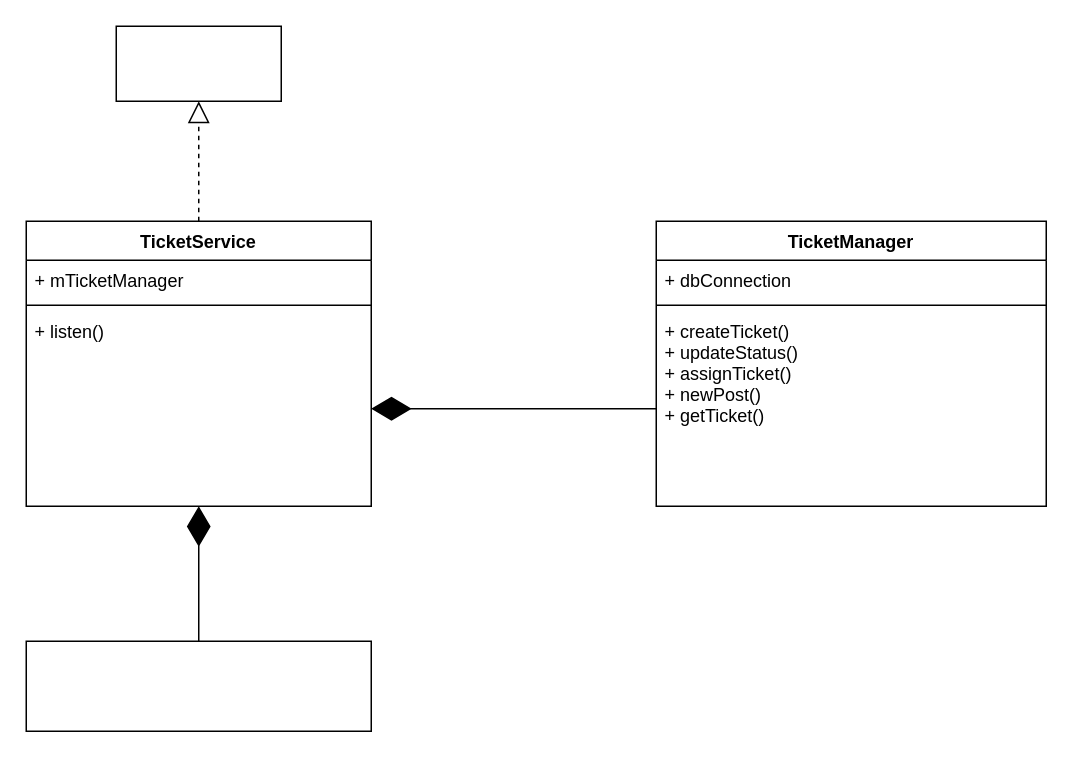
Some shapes in this 1073 by 758 pixel diagram are drawn without their labels. Here are the shapes that lost their labels. From the top down, the centre of each, then its label:
At point (198, 63): "«interface» Thread".
At point (198, 685): "Socket".
